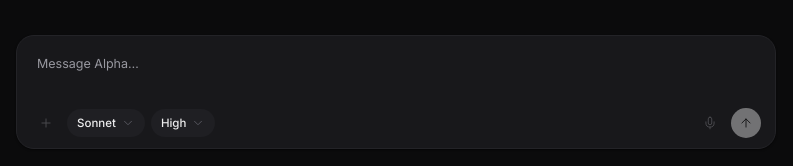
Scenario: ChatInput › keeps only one config pill open at a time when another is activated
Open the Model pill.
Click the button "Sonnet": (106, 123) [67,109,145,137]
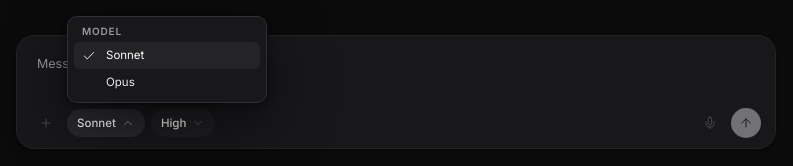
Expected: the text "Opus" is shown, [106,75,135,89]
Click the button "High": (183, 123) [151,109,215,137]
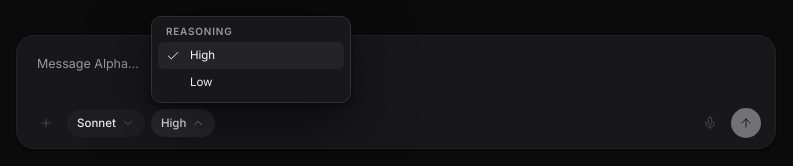
Expected: the text "Low" is shown, [190,75,212,89]
Expected: the menu item "Opus" is gone
